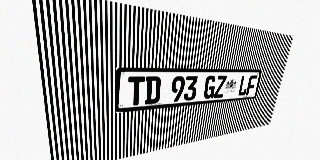3: (183, 76, 198, 101)
9: (170, 76, 186, 102)
D: (144, 76, 161, 104)
F: (246, 75, 257, 95)
G: (203, 76, 217, 99)
L: (237, 75, 250, 96)
T: (128, 76, 145, 106)
Z: (213, 76, 227, 98)
